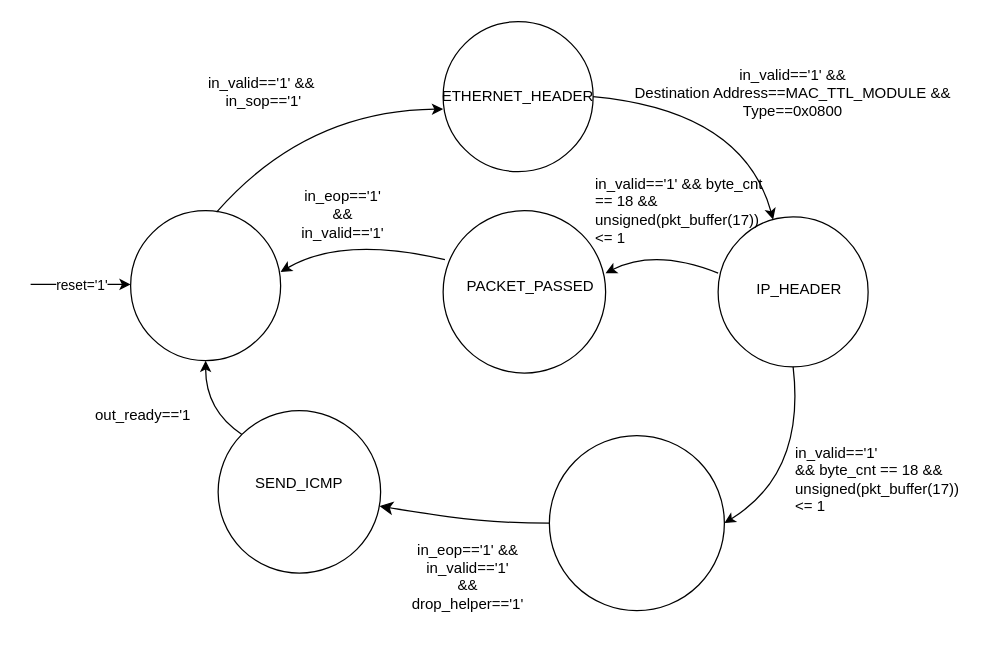
Image size: 984x653. Some labels were removed from this diagram. Each missing label, with the centre of its shape:
IDLE: (205,285)
PACKET_DROPPED: (636,522)
